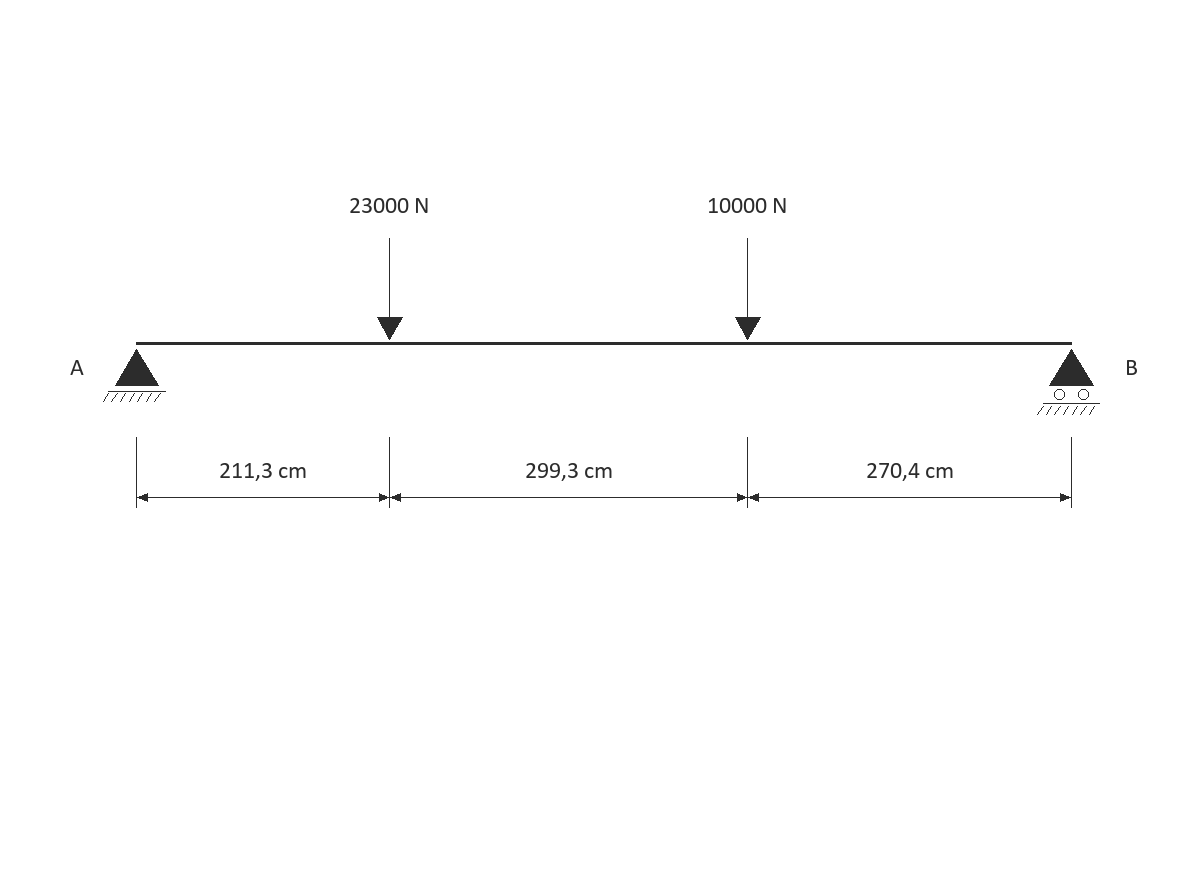pin_support: (103, 349, 166, 402)
point_load: (377, 238, 403, 340), (735, 238, 761, 340)
roller_support: (1037, 349, 1100, 415)
